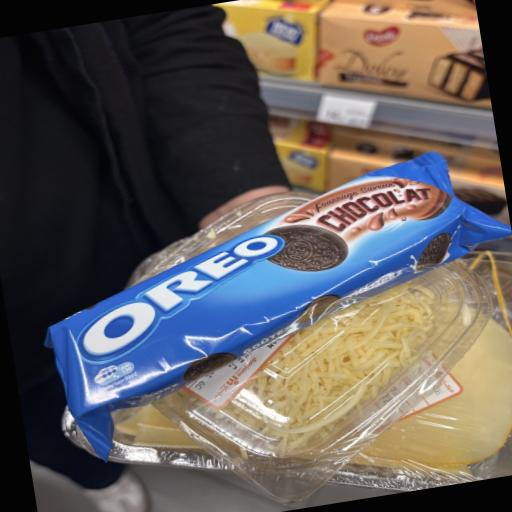oreo: (3, 125, 512, 437)
